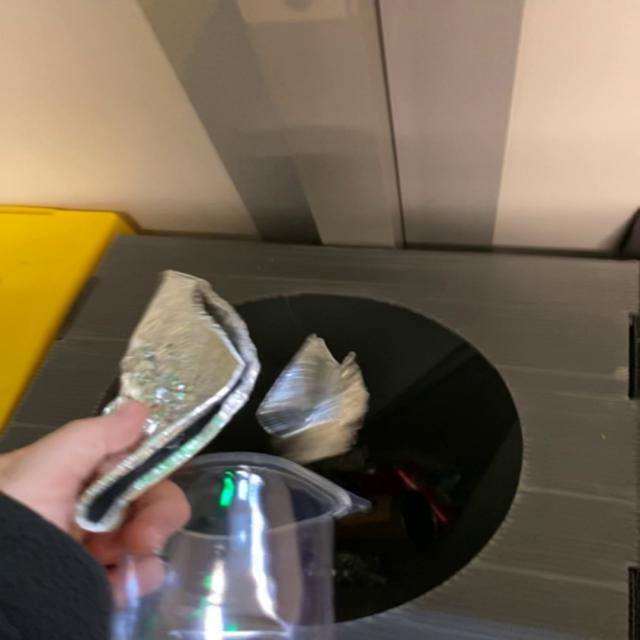bin: (2, 235, 639, 640)
metal: (74, 270, 259, 532), (255, 334, 368, 464)
